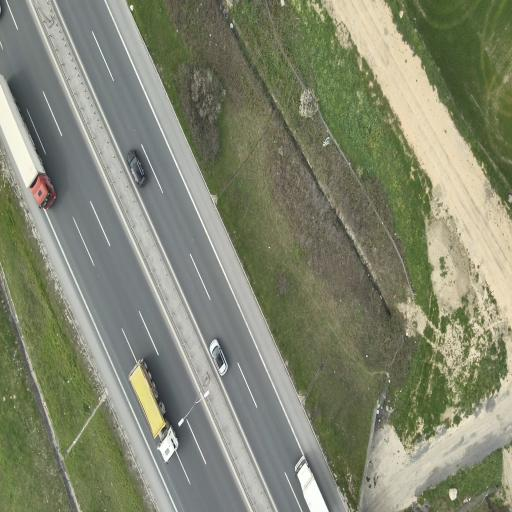car: (0, 75, 56, 209), (129, 360, 178, 462), (295, 456, 328, 511), (127, 149, 147, 187), (210, 339, 227, 375)
